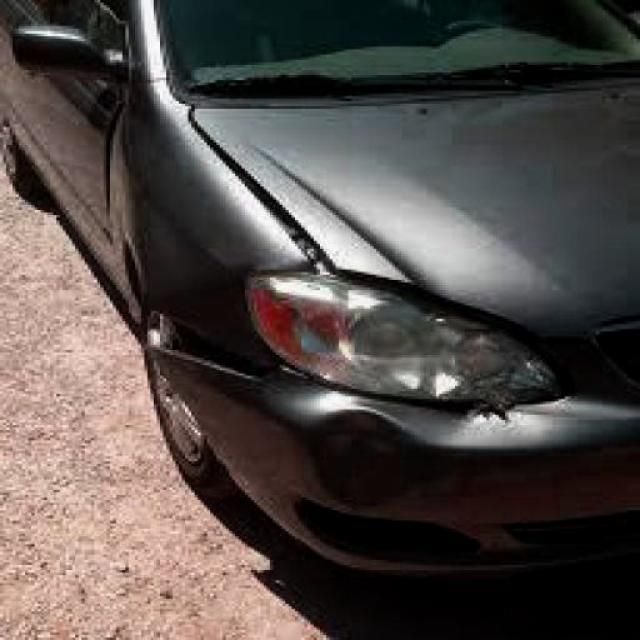car damage: (180, 106, 591, 403), (146, 309, 564, 517)
